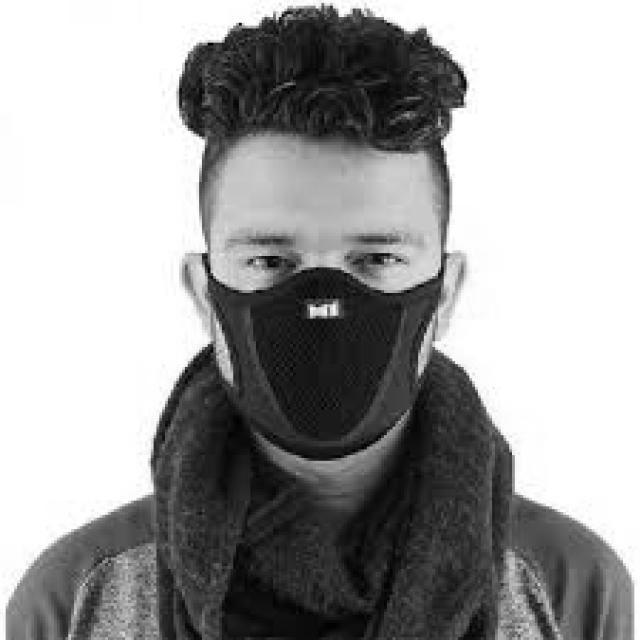fake: (206, 272, 451, 464)
real: (204, 131, 443, 467)
